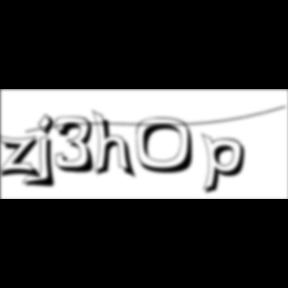3: (55, 116, 101, 176)
O: (136, 117, 202, 176)
h: (92, 108, 140, 182)
j: (36, 113, 62, 191)
p: (202, 132, 252, 198)
z: (0, 134, 46, 182)
